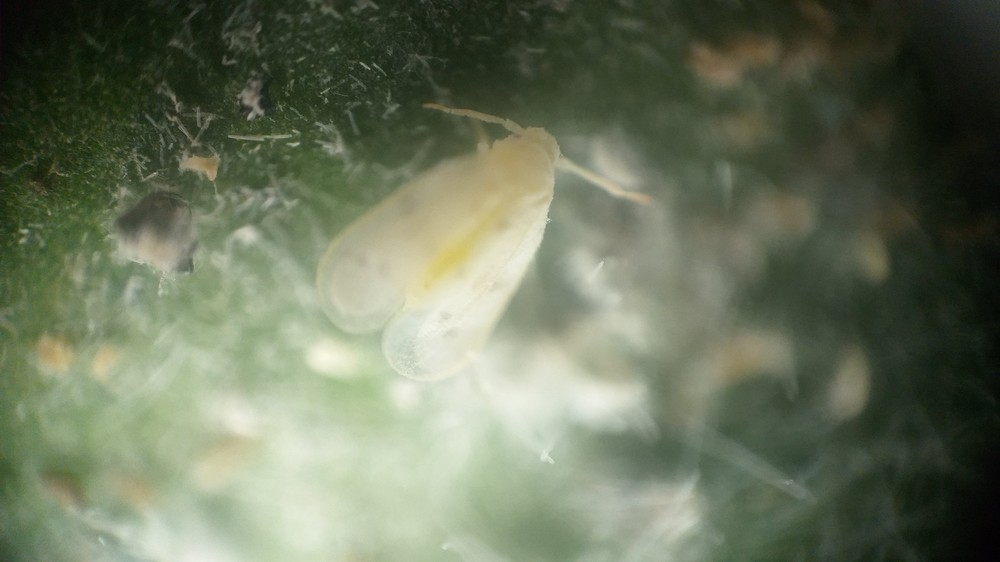Mosca Blanca: (291, 91, 672, 401)
